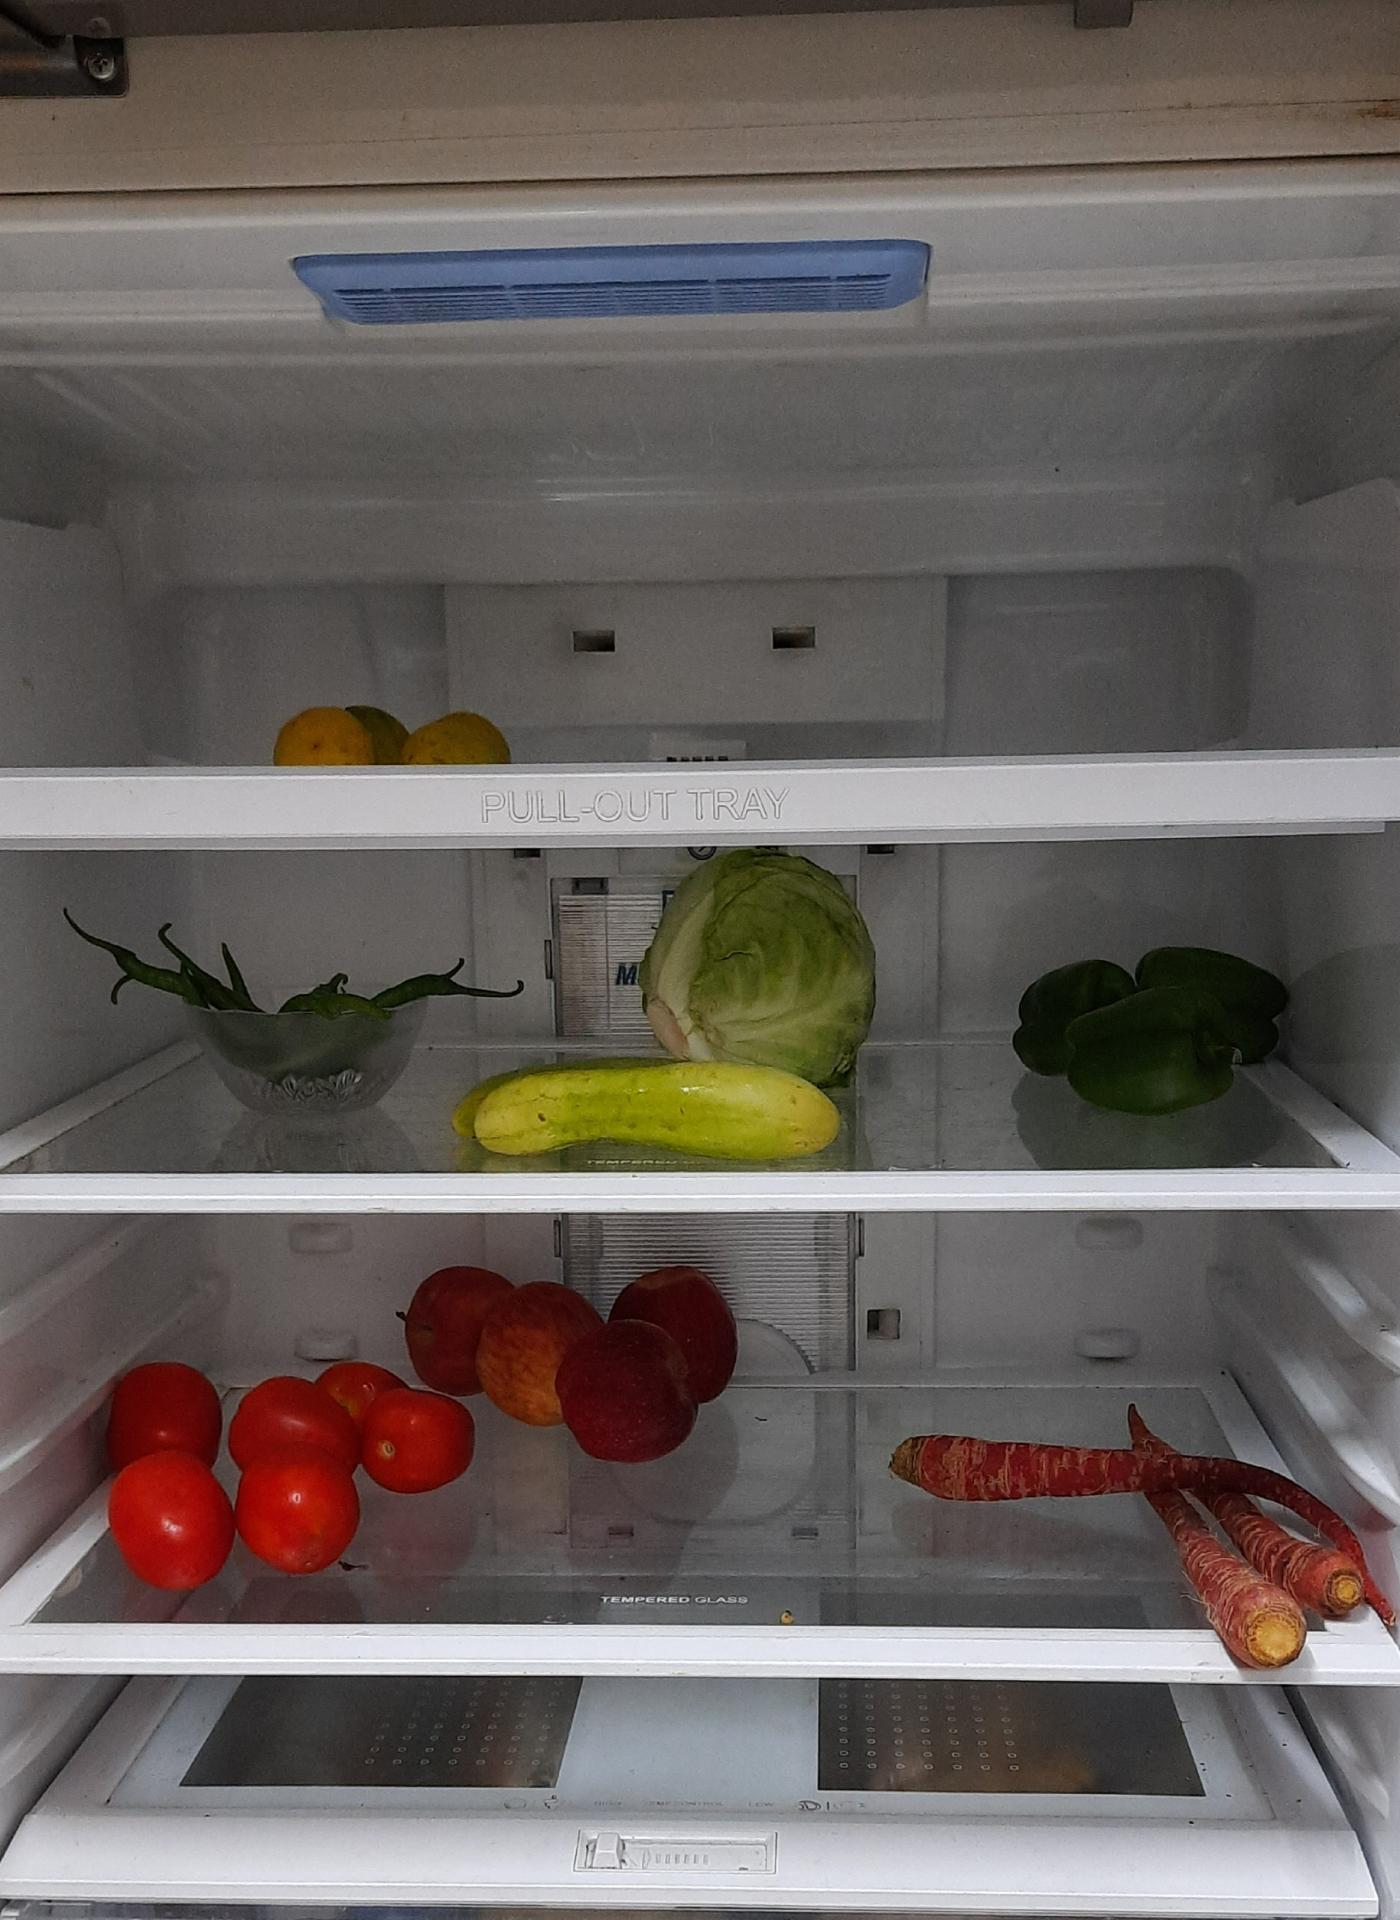carrots: (878, 1409, 1399, 1670)
cucumber: (452, 1058, 848, 1154)
lettuce: (634, 856, 875, 1078)
tomato: (112, 1361, 483, 1591)
